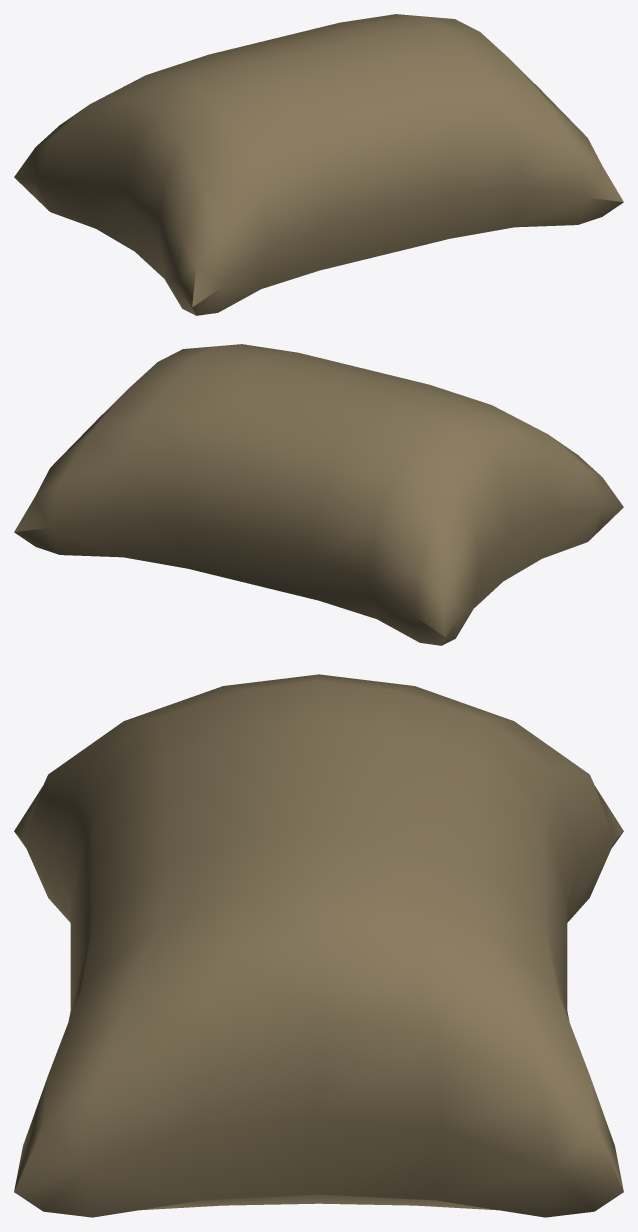
Rendered from Bag.glb.
3 views of the same model, one above another, from view 1: azimuth 30°, elevation 25°; view 2: azimuth 150°, elevation 25°; view 3: azimuth 270°, elevation 25° (orthographic). The views are drawn at different scales.
Parts seen in each view (by area): view 1: Bag; view 2: Bag; view 3: Bag.
Boxes of the visible parts, box(x1,y1,x2,y2) form: Bag: box(14, 14, 623, 315); Bag: box(14, 344, 623, 645); Bag: box(14, 674, 623, 1217).
Bounding box in the file's own units: 0.1535 × 0.0584 × 0.1096.
